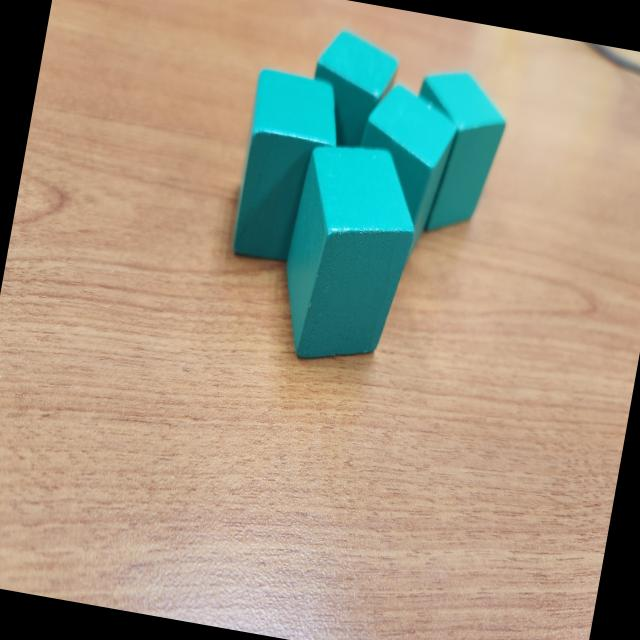green: (268, 135, 428, 376), (224, 66, 354, 271), (339, 78, 463, 276), (394, 64, 516, 240), (302, 27, 403, 154)
